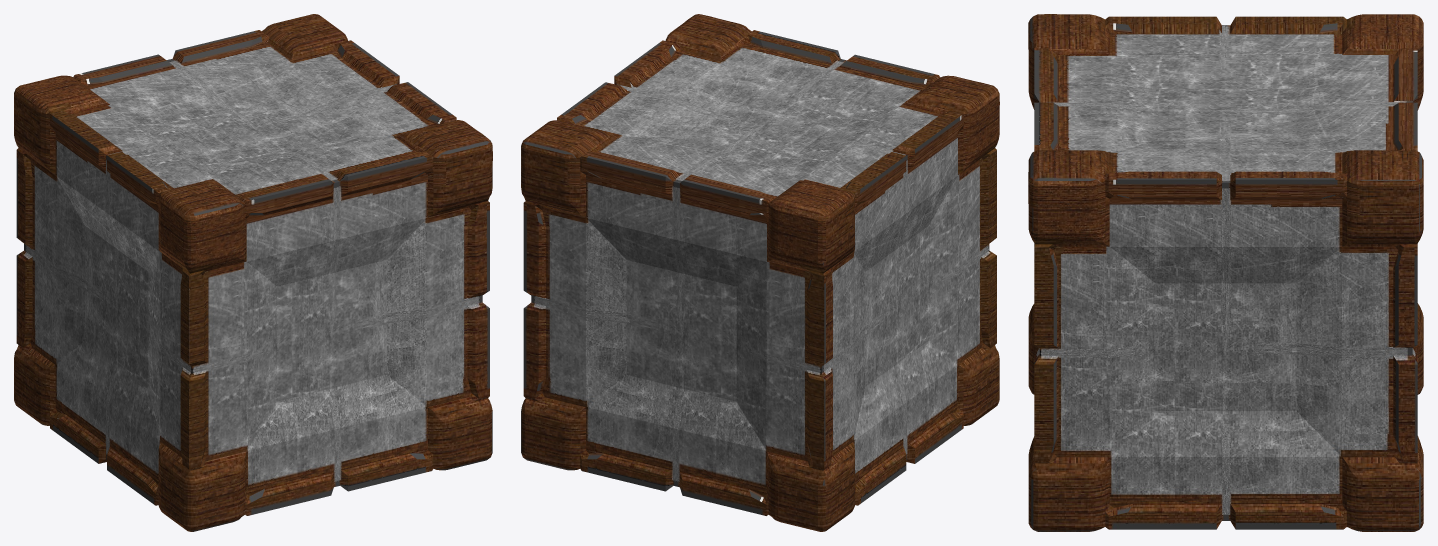
File: BoxPortail.fbx
3 renders of one model, left to right at view 1: azimuth 30°, elevation 25°; view 2: azimuth 150°, elevation 25°; view 3: azimuth 270°, elevation 25°, orthographic. The views are drawn at different scales.
Visible parts, largest first — view 1: Cube; view 2: Cube; view 3: Cube.
Boxes of the visible parts, box(x1,y1,x2,y2) form: Cube: box(14, 14, 492, 531); Cube: box(521, 14, 999, 531); Cube: box(1028, 14, 1423, 531).
Size of the model in its own units: 212 by 212 by 212.
